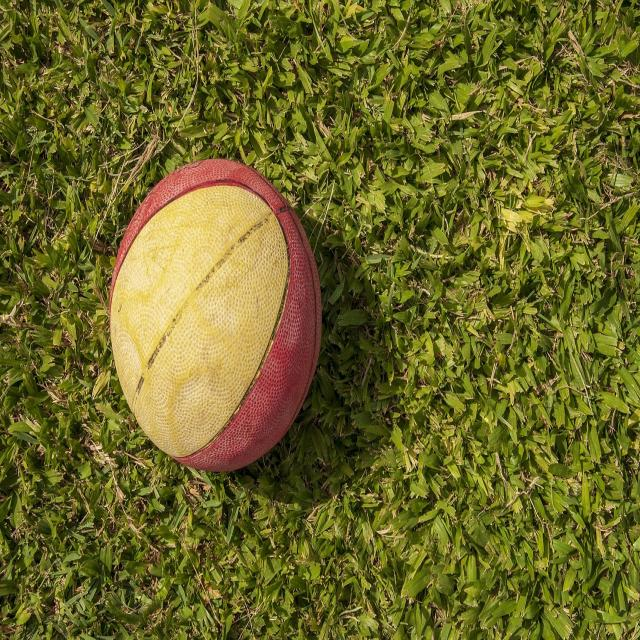Basketball: (112, 158, 323, 473)
